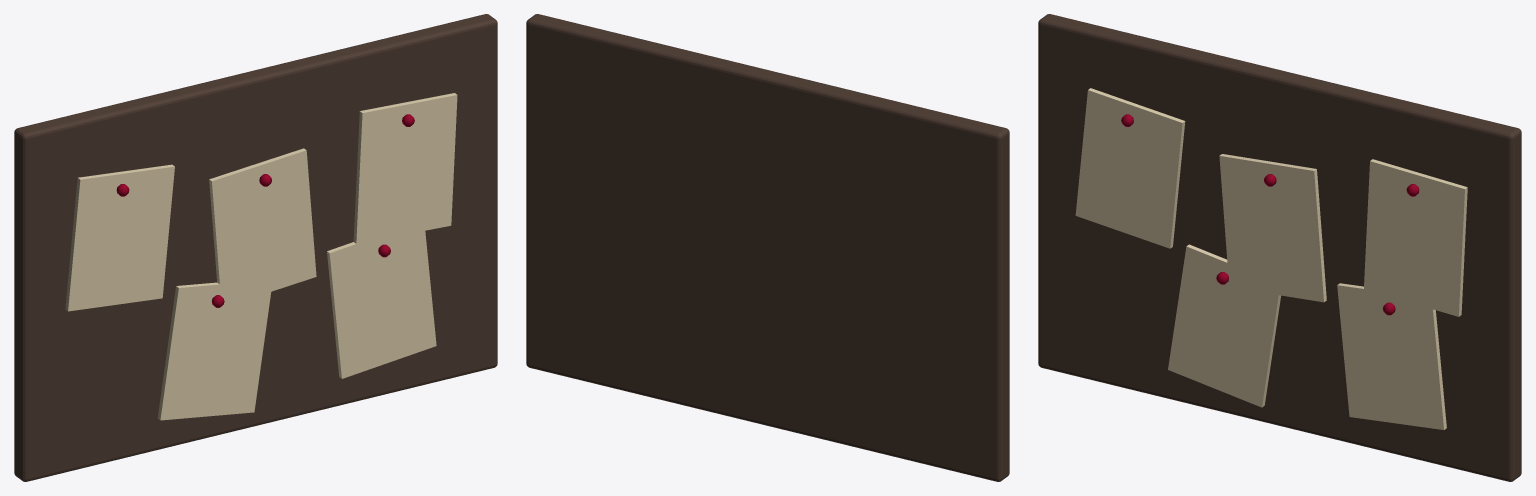
The model's file is academy_misc_notice_board.glb.
3 renders of one model, left to right at view 1: azimuth 30°, elevation 25°; view 2: azimuth 150°, elevation 25°; view 3: azimuth 330°, elevation 25°, orthographic.
Visible parts, largest first — view 1: GD_academy_misc_notice_board__m0, GD_academy_misc_notice_board__m1, GD_academy_misc_notice_board__m2; view 2: GD_academy_misc_notice_board__m0; view 3: GD_academy_misc_notice_board__m0, GD_academy_misc_notice_board__m1, GD_academy_misc_notice_board__m2.
Boxes of the visible parts, left/top/right/bottom form: GD_academy_misc_notice_board__m0: left=14, top=14, right=497, bottom=481; GD_academy_misc_notice_board__m1: left=65, top=93, right=457, bottom=420; GD_academy_misc_notice_board__m2: left=116, top=114, right=414, bottom=307; GD_academy_misc_notice_board__m0: left=526, top=14, right=1009, bottom=481; GD_academy_misc_notice_board__m0: left=1038, top=14, right=1521, bottom=481; GD_academy_misc_notice_board__m1: left=1075, top=88, right=1467, bottom=429; GD_academy_misc_notice_board__m2: left=1121, top=114, right=1419, bottom=315.
Size of the model in its own units: 1 by 0.7 by 0.067.
